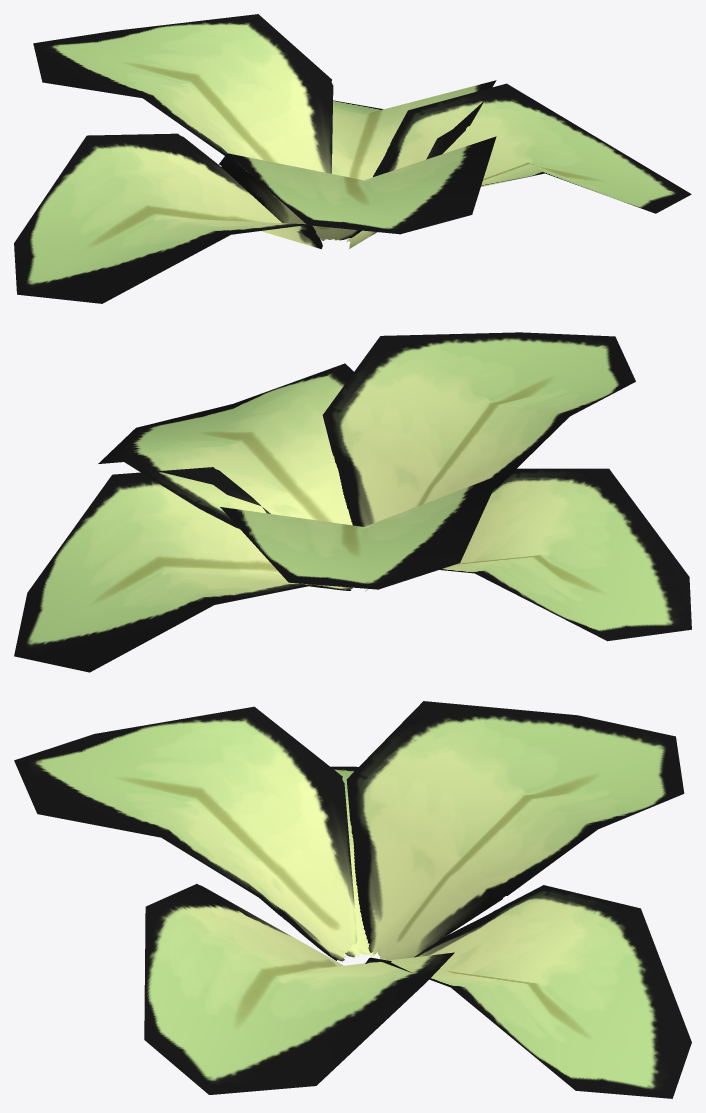
File: leafCluster.fbx
The picture shows the model from 3 angles, top to bottom: view 1: azimuth 30°, elevation 25°; view 2: azimuth 150°, elevation 25°; view 3: azimuth 270°, elevation 25°; orthographic projection. The views are drawn at different scales.
Parts seen in each view (by area): view 1: Cluster_Leaf_01; view 2: Cluster_Leaf_01; view 3: Cluster_Leaf_01.
Boxes of the visible parts, x1,y1,x2,y2 form: Cluster_Leaf_01: [14, 14, 691, 303]; Cluster_Leaf_01: [14, 332, 691, 672]; Cluster_Leaf_01: [14, 701, 691, 1098].
Size of the model in its own units: 1.18 by 0.3391 by 1.03.
